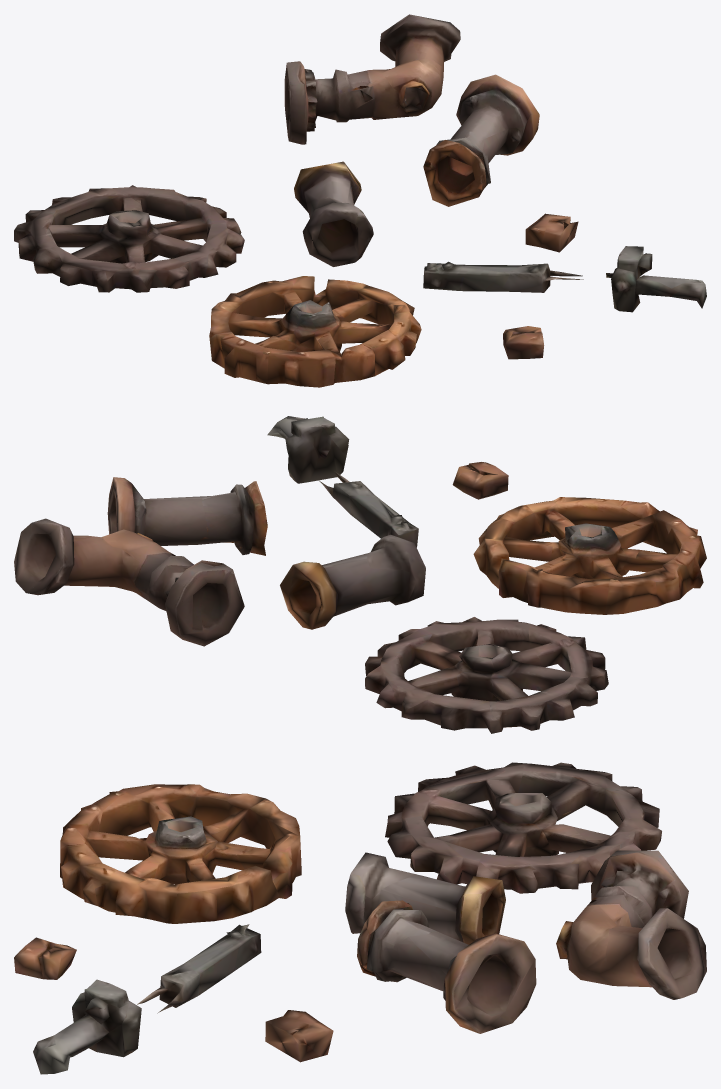
The model's file is deb_gear.glb.
3 views of the same model, one above another, from view 1: azimuth 30°, elevation 25°; view 2: azimuth 150°, elevation 25°; view 3: azimuth 270°, elevation 25° (orthographic). The views are drawn at different scales.
Visible parts, largest first — view 1: tripo_node_1a1ff038-ed72-4a15-b220-5d6888e24375; view 2: tripo_node_1a1ff038-ed72-4a15-b220-5d6888e24375; view 3: tripo_node_1a1ff038-ed72-4a15-b220-5d6888e24375.
Boxes of the visible parts, <box> form: tripo_node_1a1ff038-ed72-4a15-b220-5d6888e24375: <box>14,14,706,387</box>; tripo_node_1a1ff038-ed72-4a15-b220-5d6888e24375: <box>14,416,706,733</box>; tripo_node_1a1ff038-ed72-4a15-b220-5d6888e24375: <box>14,762,706,1074</box>.
Bounding box in the file's own units: 0.9991 × 0.2304 × 0.9985.
Materials: 1 (1 with a texture image).
